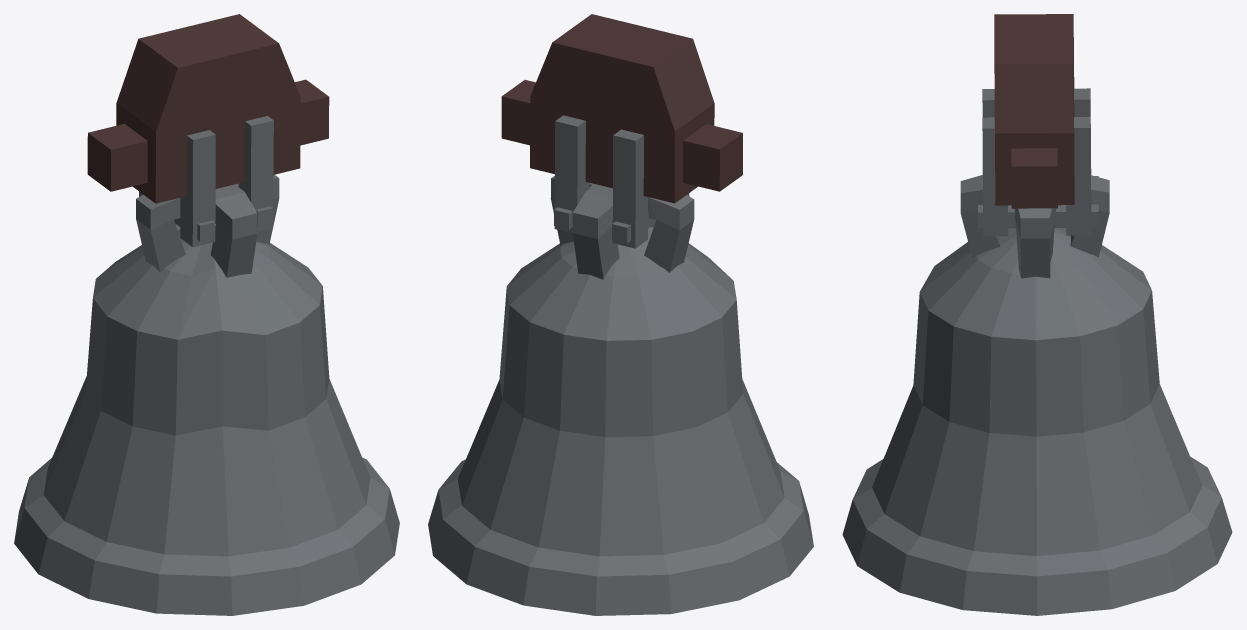
File: DarkGreyMetalMechLargeBell1.fbx
3 renders of one model, left to right at view 1: azimuth 30°, elevation 25°; view 2: azimuth 150°, elevation 25°; view 3: azimuth 270°, elevation 25°, orthographic.
Visible parts, largest first — view 1: BellShape02, BellShape03, BellShape01, BellShape06, BellShape04; view 2: BellShape04, BellShape03, BellShape01, BellShape05; view 3: BellShape05, BellShape06, BellShape03, BellShape02, BellShape04.
Boxes of the visible parts, x1,y1,x2,y2 form: BellShape02: [156, 267, 361, 615]; BellShape03: [87, 14, 329, 277]; BellShape01: [14, 255, 191, 613]; BellShape06: [257, 243, 399, 583]; BellShape04: [14, 245, 144, 541]; BellShape04: [466, 267, 739, 615]; BellShape03: [501, 14, 742, 279]; BellShape01: [660, 248, 813, 600]; BellShape05: [428, 243, 572, 584]; BellShape05: [1035, 259, 1217, 615]; BellShape06: [857, 260, 1037, 615]; BellShape03: [960, 14, 1109, 278]; BellShape02: [842, 242, 977, 565]; BellShape04: [1093, 245, 1232, 563].
Bounding box in the file's own units: 246 × 366 × 246.
